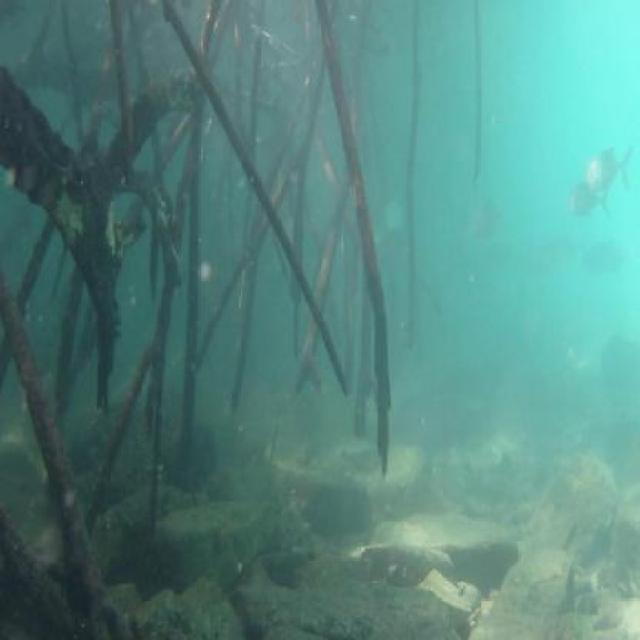Caranx_sexfasciatus_juvenile: (586, 229, 640, 286), (571, 169, 618, 225), (591, 139, 640, 183)
